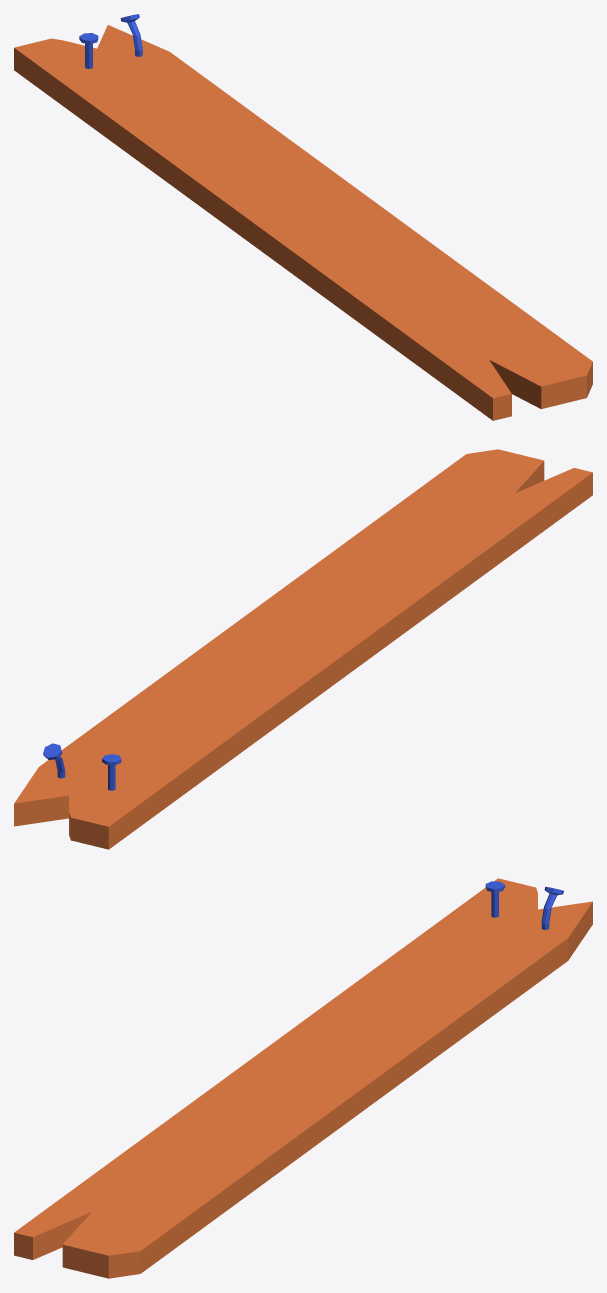
The model's file is garbage_plank (2).fbx.
3 views of the same model, one above another, from view 1: azimuth 30°, elevation 25°; view 2: azimuth 150°, elevation 25°; view 3: azimuth 330°, elevation 25° (orthographic).
Visible parts, largest first — view 1: Cube; view 2: Cube; view 3: Cube.
Part boxes in pixels (x1,y1,x2,y2): Cube: [14, 14, 592, 420]; Cube: [14, 449, 592, 849]; Cube: [14, 878, 592, 1278].
Size of the model in its own units: 1142 by 568 by 8417.
